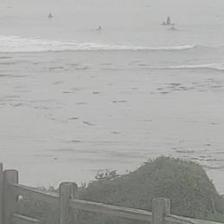surfer: (168, 26, 180, 31), (160, 22, 174, 26), (47, 12, 53, 19), (166, 16, 172, 22), (96, 26, 102, 32)
